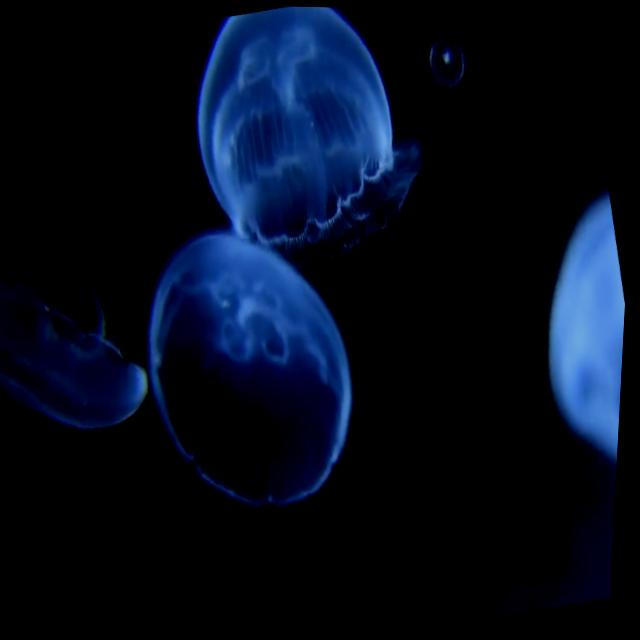Moon-jellyfish: (194, 5, 424, 267), (146, 226, 360, 506), (0, 273, 152, 430), (551, 185, 628, 458), (425, 24, 473, 87)
